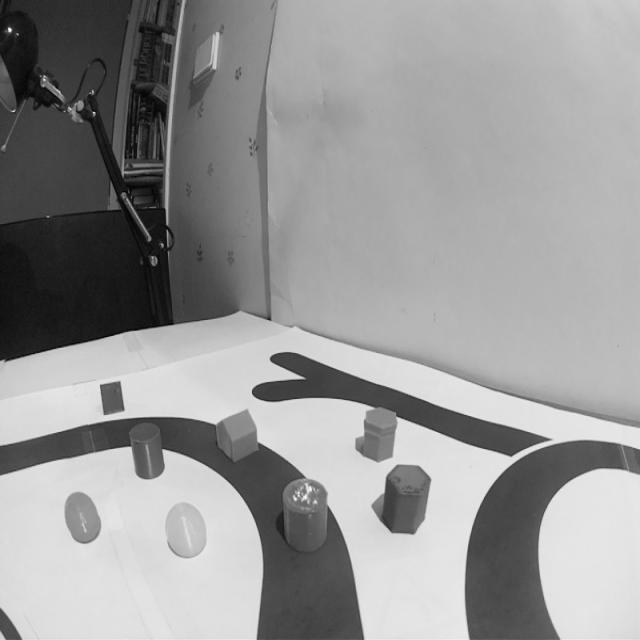ball: (165, 501, 208, 559), (63, 490, 101, 544)
cylinder: (282, 478, 327, 554), (127, 421, 165, 480)
hexagon: (382, 465, 431, 536), (362, 407, 397, 462)
home: (215, 410, 259, 464)
laneLeftTurn: (190, 416, 370, 640)
laneRightTurn: (454, 452, 596, 640)
triangle: (99, 381, 125, 416)
